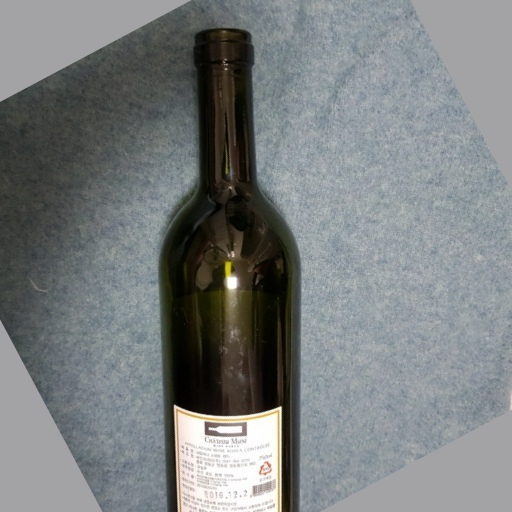Glass_2: (158, 25, 305, 512)
